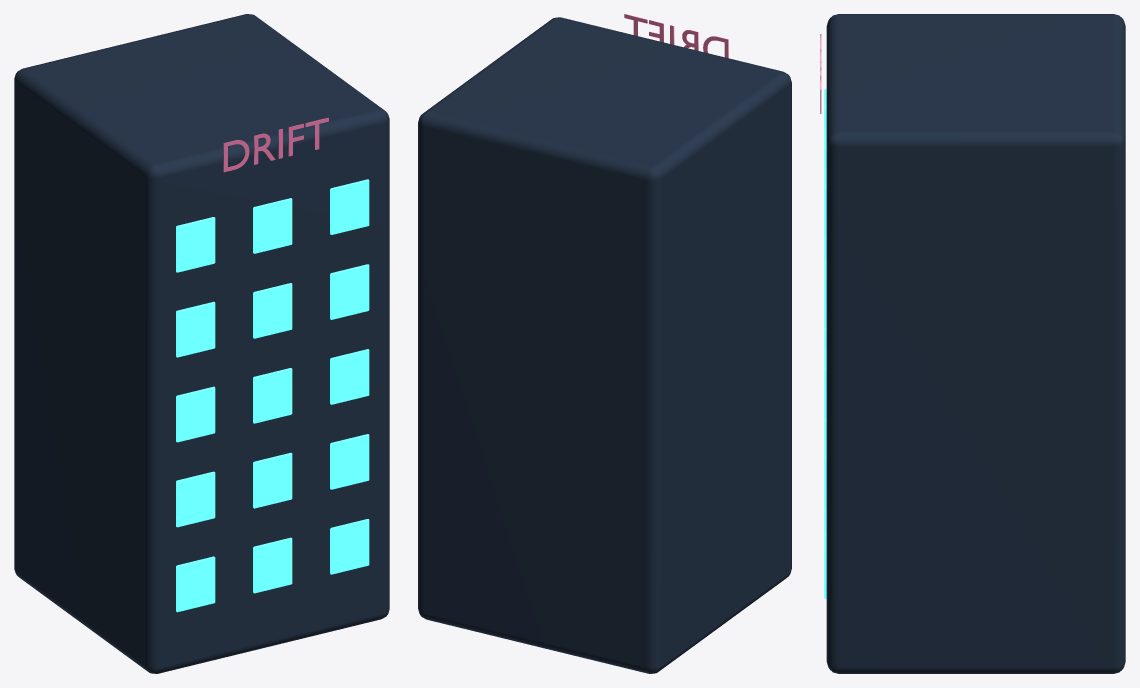
Rendered from Harbor_building.glb.
The picture shows the model from 3 angles, left to right: view 1: azimuth 30°, elevation 25°; view 2: azimuth 150°, elevation 25°; view 3: azimuth 270°, elevation 25°; orthographic projection. The views are drawn at different scales.
Parts seen in each view (by area): view 1: Harbor tower, Lit window.003, Lit window, Lit window.014, Lit window.001, Lit window.002, Lit window.004, Lit window.005, Lit window.006, Lit window.007, Lit window.008, Lit window.009 (+5 smaller); view 2: Harbor tower, Neon sign; view 3: Harbor tower.
Part boxes in pixels (bbox=[...]): Harbor tower: bbox=[14, 14, 389, 673]; Lit window.003: bbox=[176, 471, 215, 527]; Lit window: bbox=[176, 556, 215, 612]; Lit window.014: bbox=[330, 179, 369, 234]; Lit window.001: bbox=[253, 537, 292, 593]; Lit window.002: bbox=[330, 519, 369, 574]; Lit window.004: bbox=[253, 452, 292, 508]; Lit window.005: bbox=[330, 434, 369, 489]; Lit window.006: bbox=[176, 386, 215, 442]; Lit window.007: bbox=[253, 368, 292, 423]; Lit window.008: bbox=[330, 349, 369, 404]; Lit window.009: bbox=[176, 301, 215, 357]; Harbor tower: bbox=[418, 17, 791, 673]; Neon sign: bbox=[624, 14, 728, 58]; Harbor tower: bbox=[826, 14, 1125, 673].
Size of the model in its own units: 3 by 6.14 by 3.06.
